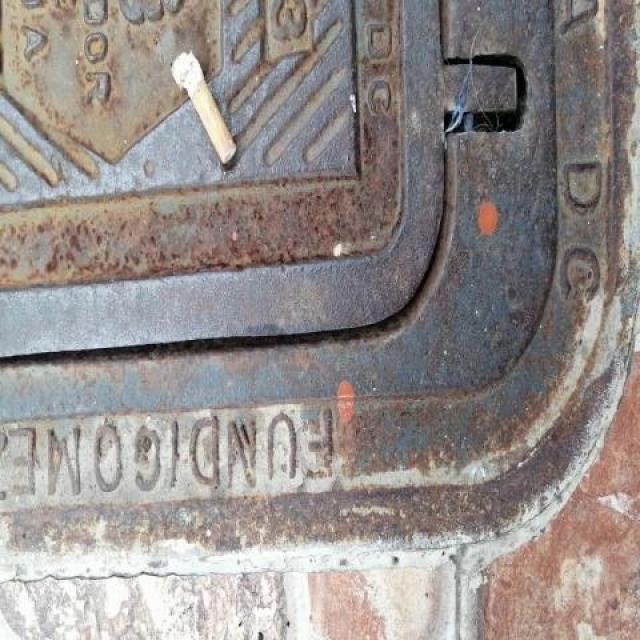non-organic waste: (168, 48, 240, 165)
